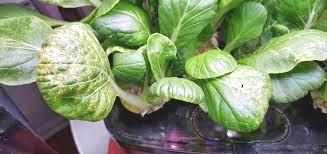Bok-Choy-Diseased: (33, 17, 142, 117), (191, 60, 273, 131), (241, 25, 327, 85)
